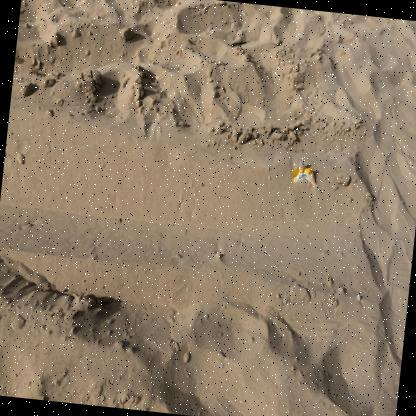Plastic straw: (230, 41, 246, 46)
Squeezable tube: (292, 160, 316, 186)
